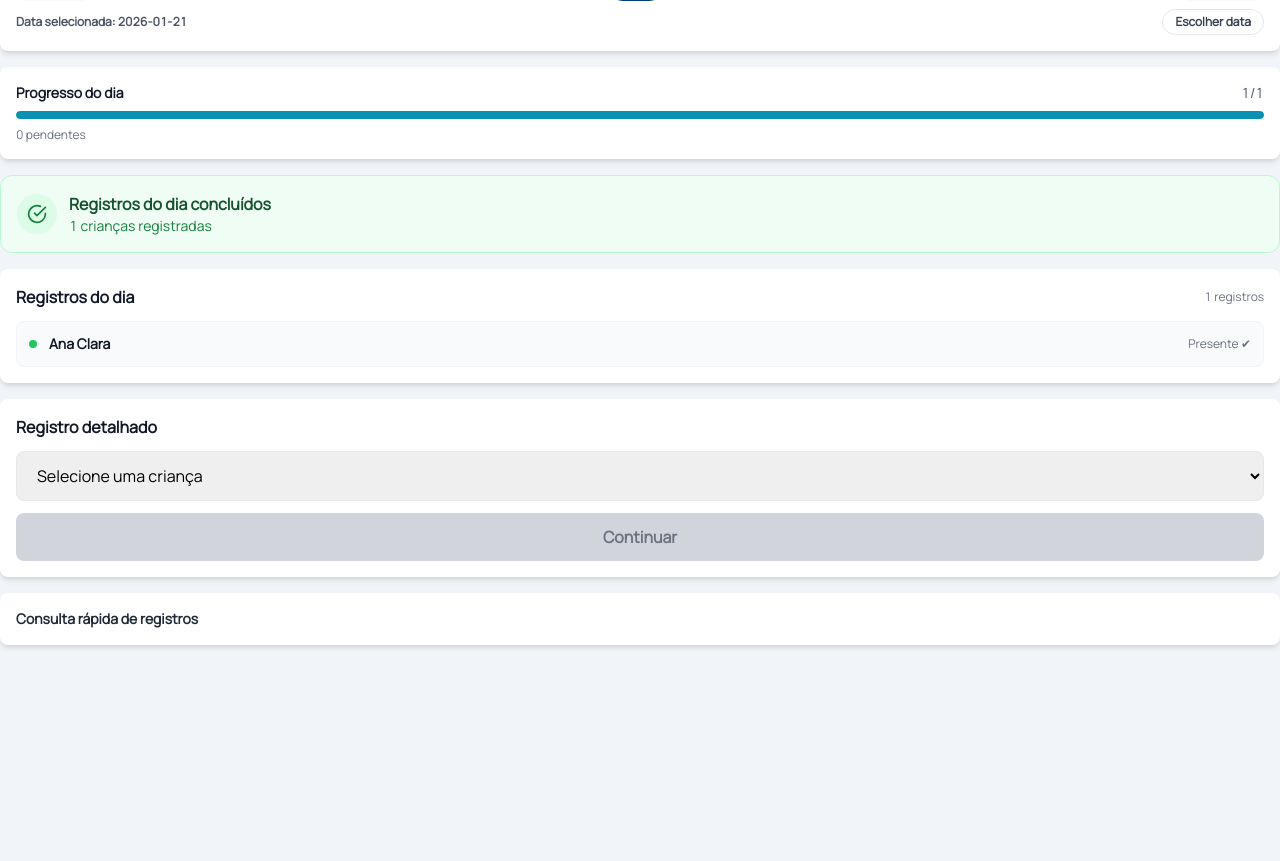
Test: DailyRecordView edit flow › loads record into form when selecting a same-day record
Click the button "Ana Clara Presente ✔": (80, 344) [16,321,1264,367]
(page scrolled)
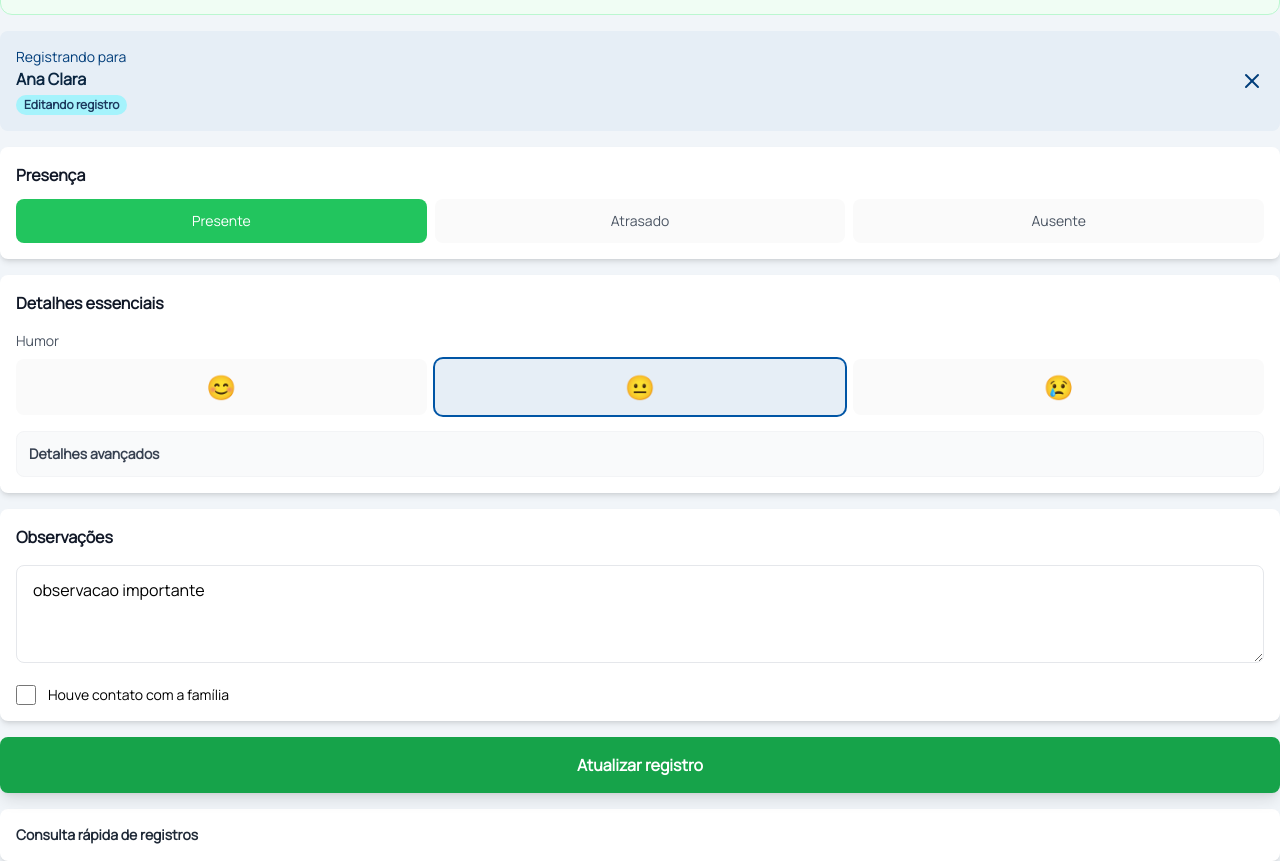
Check: the button "Atualizar registro" is shown, box [0,737,1279,793]
Check: the text box with placeholder "Algo importante..." holds "observacao importante", box [16,565,1264,663]
